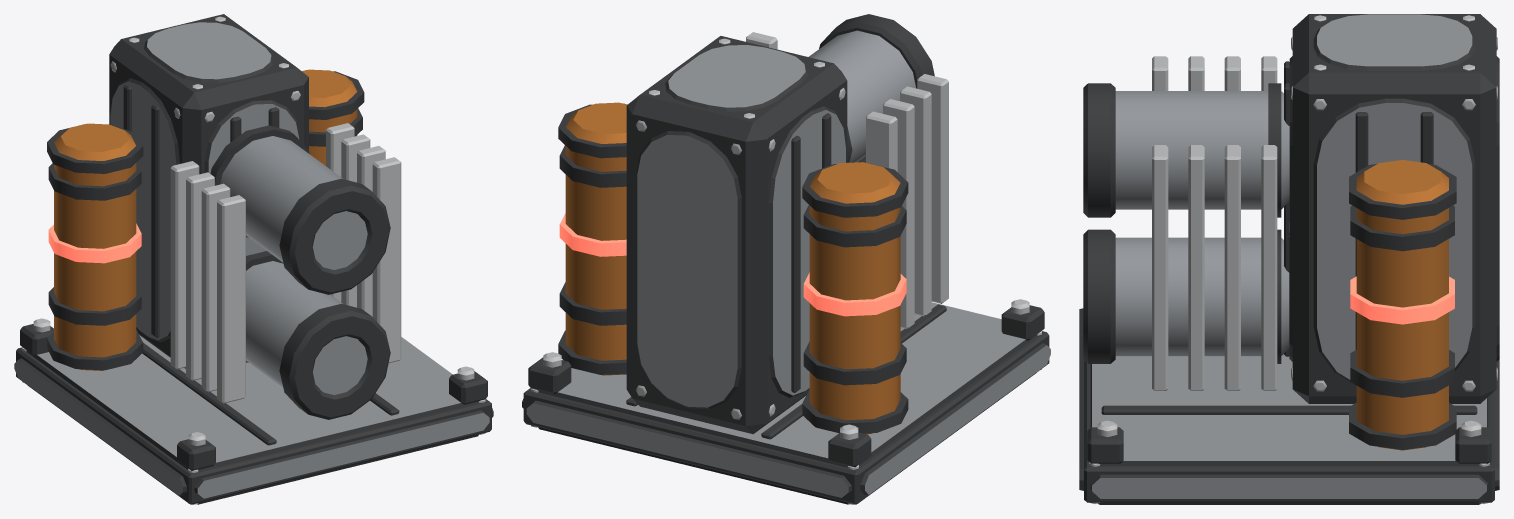
Rendered from R4X_DoubleShotOverdrive.fbx.
3 views of the same model, side by side, from view 1: azimuth 30°, elevation 25°; view 2: azimuth 150°, elevation 25°; view 3: azimuth 270°, elevation 25° (orthographic). The views are drawn at different scales.
Parts seen in each view (by area): view 1: R4X_DoubleShotOverdrive_Body; view 2: R4X_DoubleShotOverdrive_Body; view 3: R4X_DoubleShotOverdrive_Body.
Boxes of the visible parts, box(x1,y1,x2,y2) form: R4X_DoubleShotOverdrive_Body: box(14, 14, 493, 504); R4X_DoubleShotOverdrive_Body: box(522, 14, 1050, 504); R4X_DoubleShotOverdrive_Body: box(1079, 14, 1499, 504).
Bounding box in the file's own units: 0.52 × 0.52 × 0.52.
